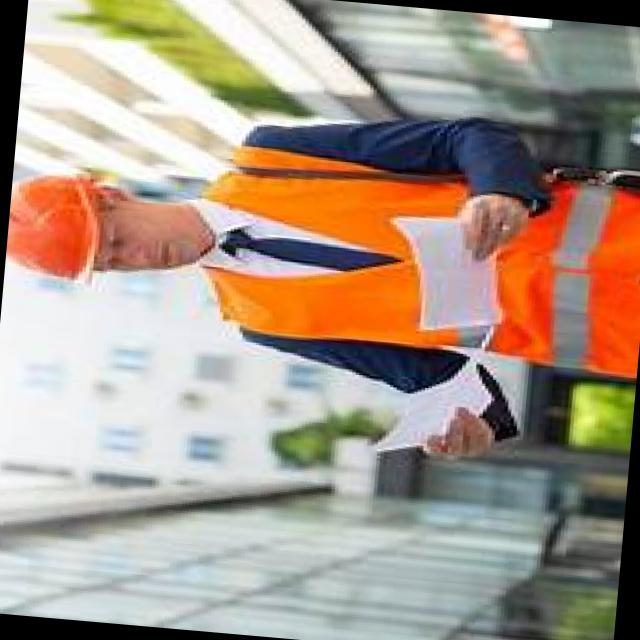not-gloved: (448, 188, 534, 261)
